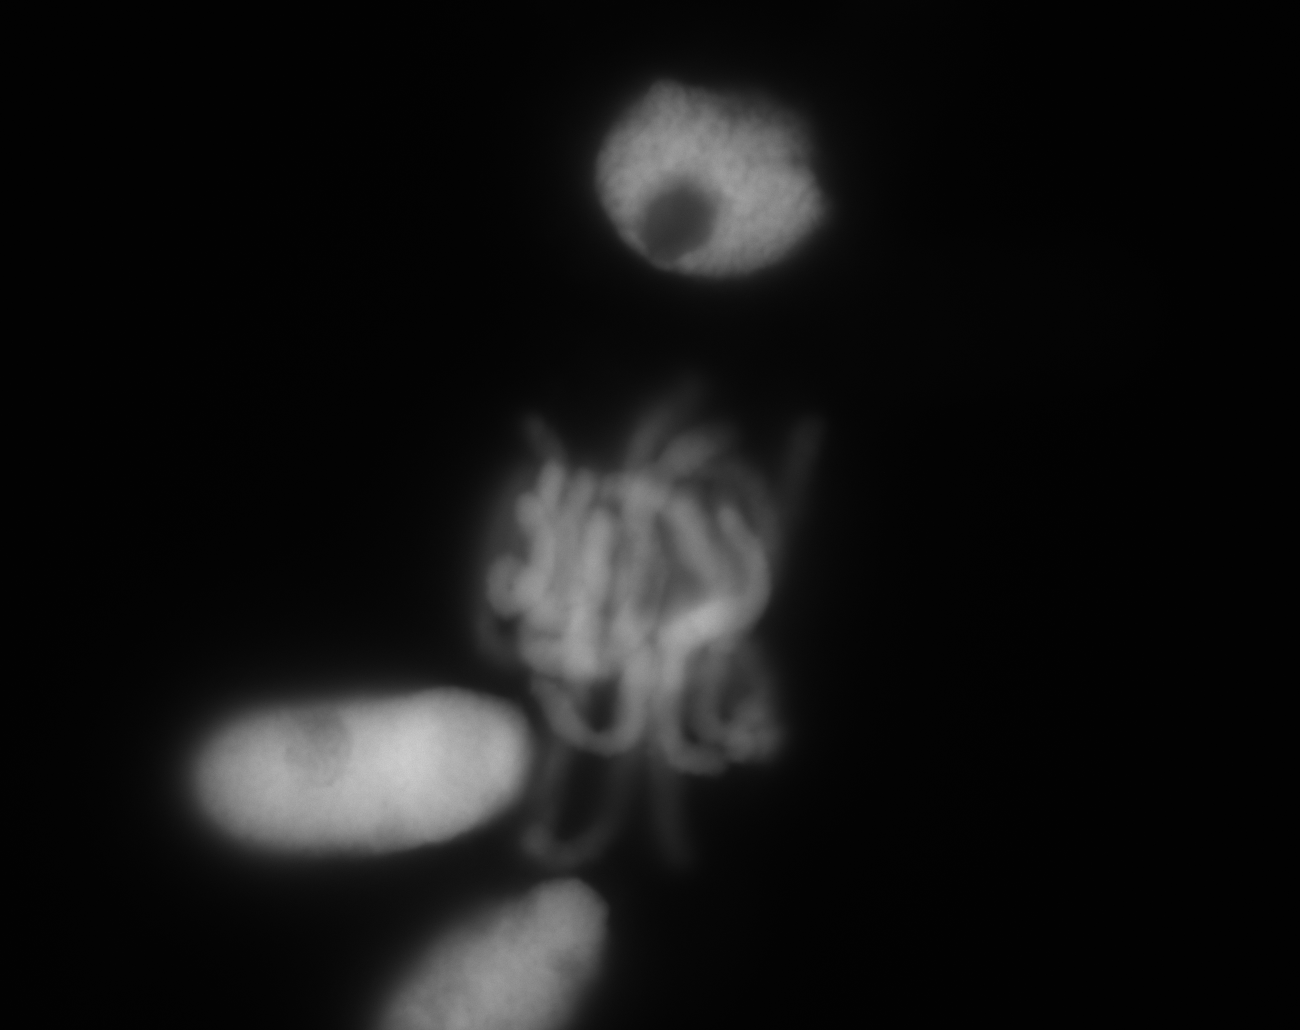Chromosomes: (436, 321, 877, 892)
Others: (114, 645, 581, 899), (539, 28, 897, 316), (328, 861, 691, 1030)
